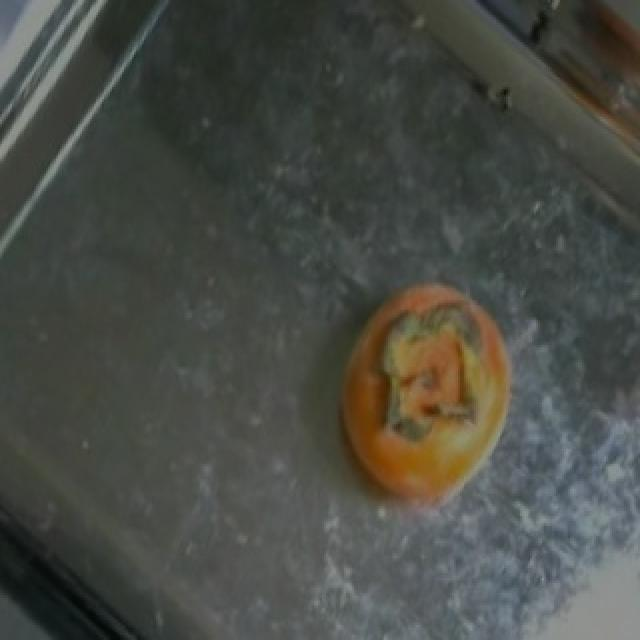Fruit: (318, 261, 534, 544)
